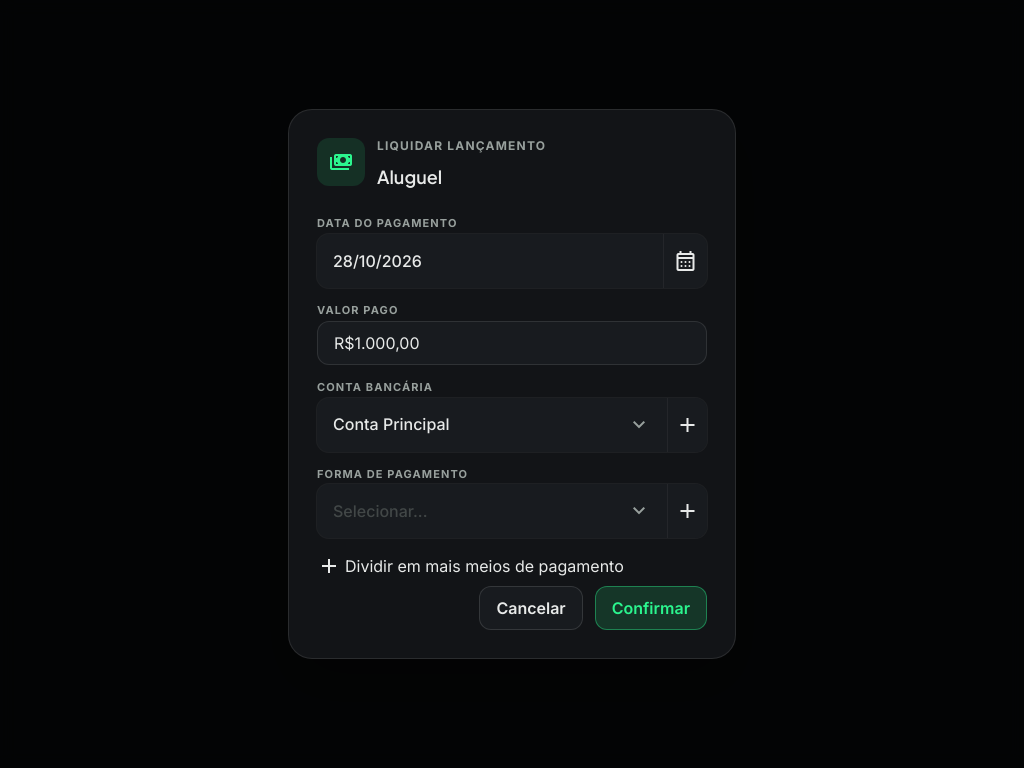
Test: LiquidarModal › advances to step opcoes when valor is higher than valorLiquido
Find CurrencyInput by label "Valor pago"
Clear the field showing "1.000" below "Valor pago": (512, 343) [317, 320, 707, 365]
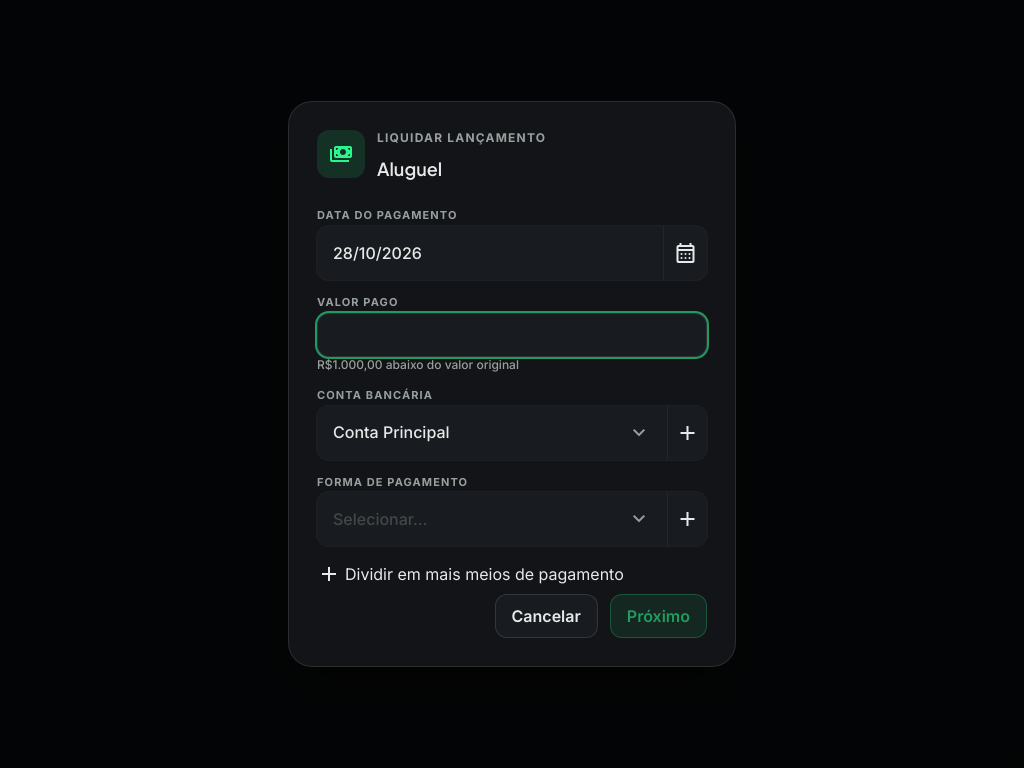
In the field showing "1.000" below "Valor pago": (512, 335) [317, 312, 707, 357], type "1200,00"
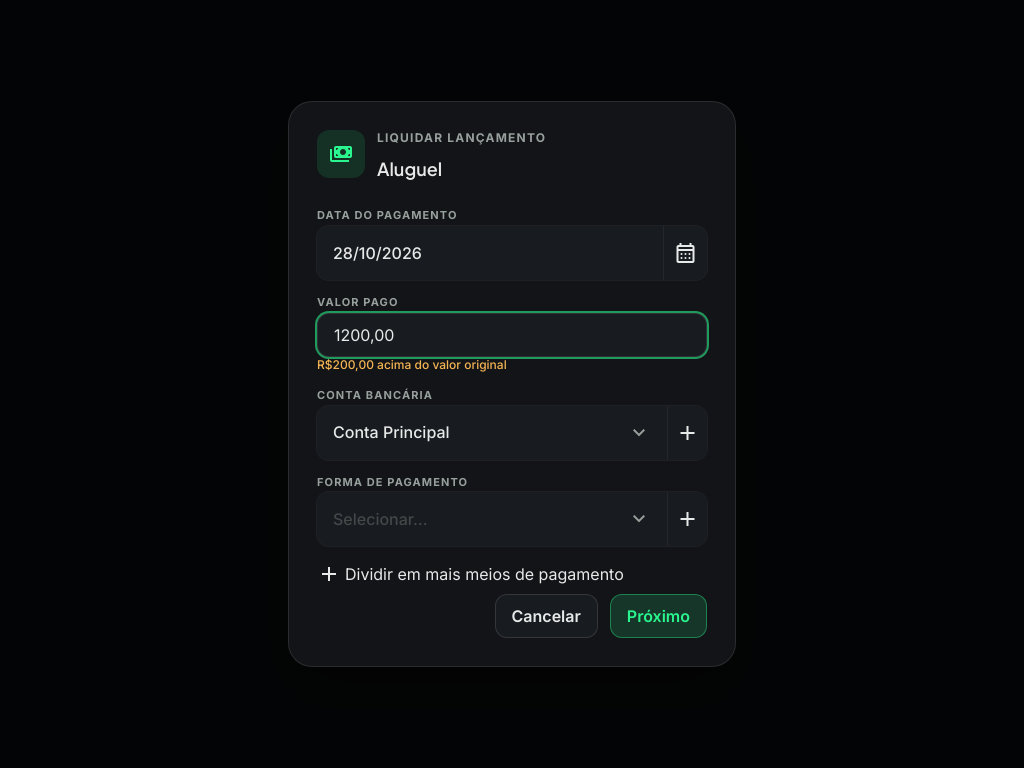
Press Tab
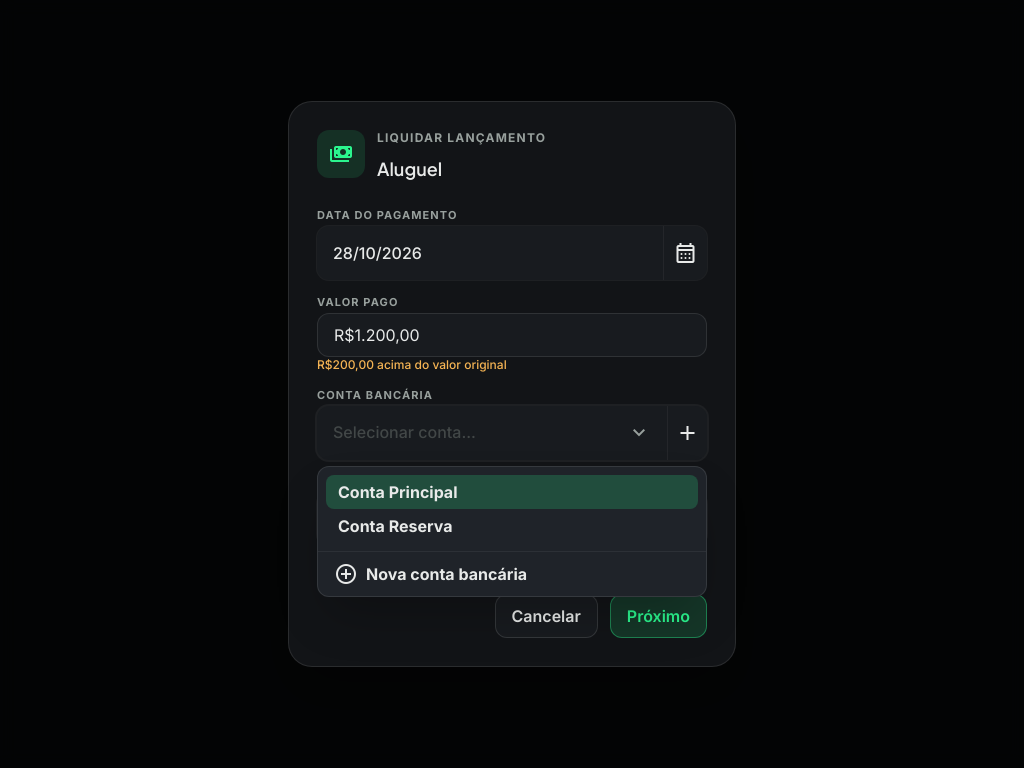
Check: the button "Próximo" is shown
Click the button "Próximo": (658, 616) [610, 594, 707, 638]
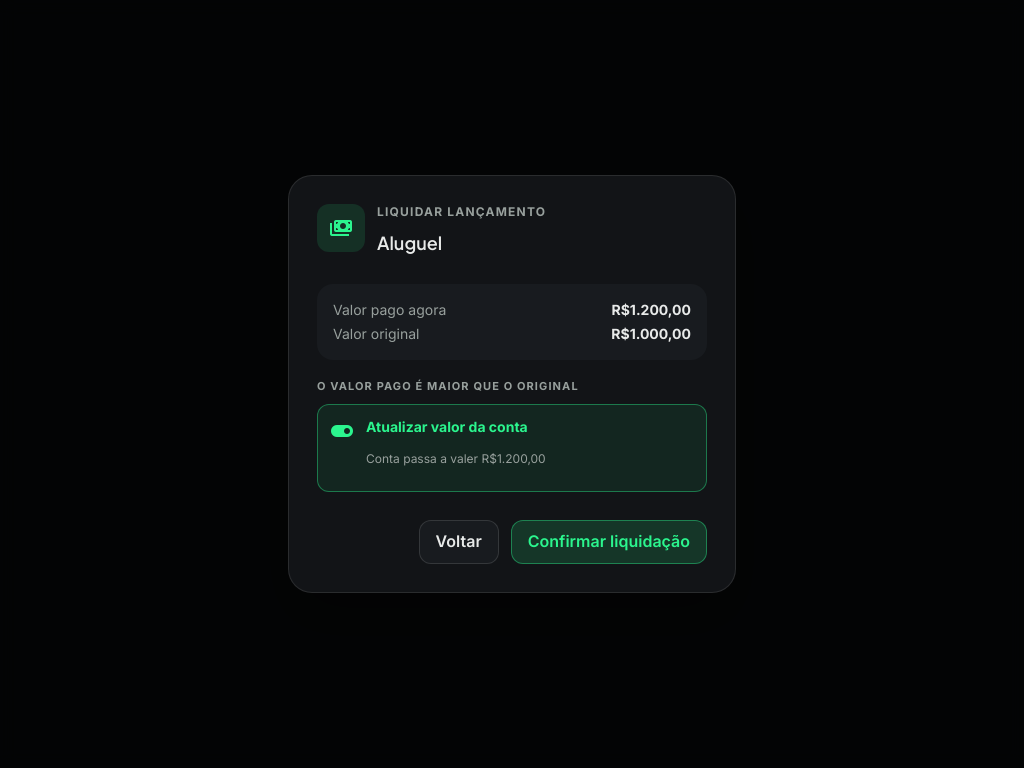
Check: the text "O valor pago é maior que o original" is shown, box [317, 379, 579, 393]
Check: the text "Atualizar valor da conta" is shown, box [366, 417, 546, 437]
